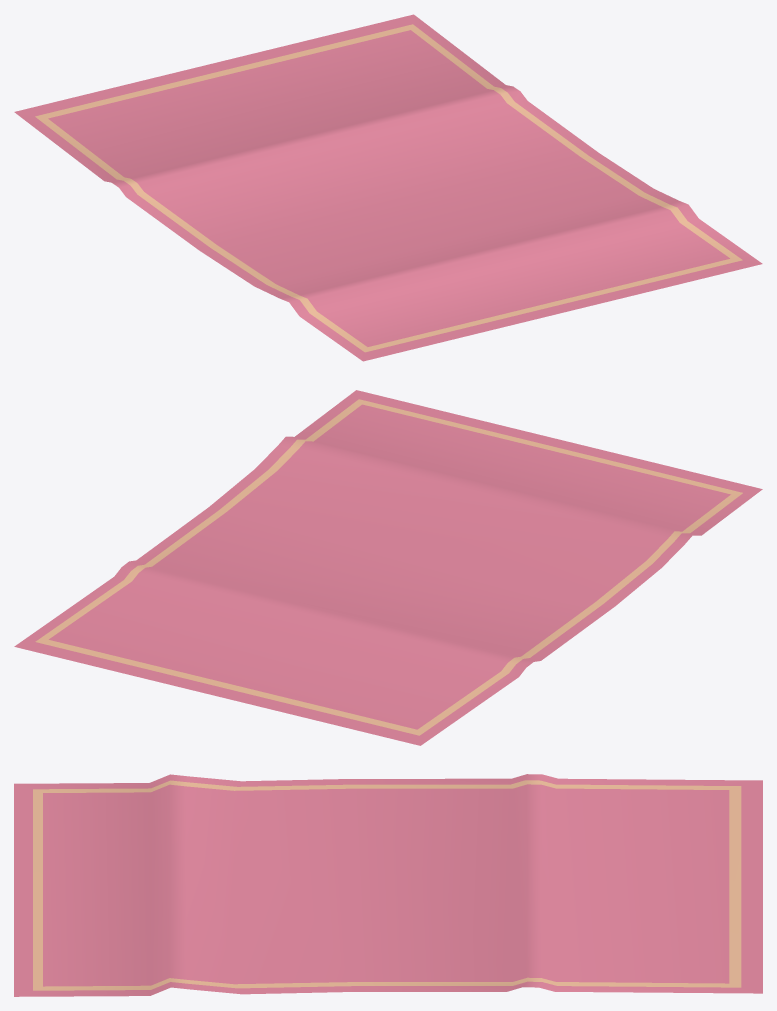
File: rug.glb
The picture shows the model from 3 angles, top to bottom: view 1: azimuth 30°, elevation 25°; view 2: azimuth 150°, elevation 25°; view 3: azimuth 270°, elevation 25°; orthographic projection. The views are drawn at different scales.
Parts seen in each view (by area): view 1: Carpet_1; view 2: Carpet_1; view 3: Carpet_1.
Boxes of the visible parts, left/top/right/bottom form: Carpet_1: left=14, top=14, right=762, bottom=361; Carpet_1: left=14, top=390, right=762, bottom=745; Carpet_1: left=14, top=774, right=762, bottom=996.
Bounding box in the file's own units: 2.13 × 0.0366 × 3.09.
